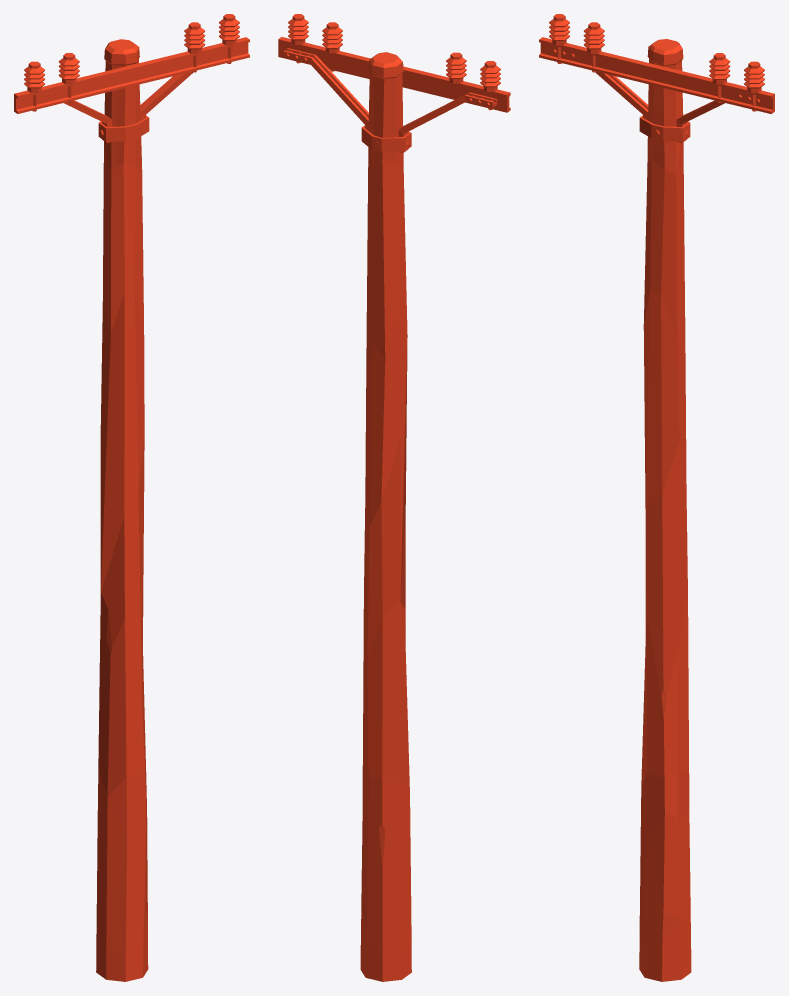
The model's file is SM_Pole_Electric_A_City.fbx.
3 renders of one model, left to right at view 1: azimuth 30°, elevation 25°; view 2: azimuth 150°, elevation 25°; view 3: azimuth 330°, elevation 25°, orthographic.
Visible parts, largest first — view 1: SM_Pole_Electric_A_City; view 2: SM_Pole_Electric_A_City; view 3: SM_Pole_Electric_A_City.
Boxes of the visible parts, x1=… form: SM_Pole_Electric_A_City: x1=14, y1=14, x2=249, y2=981; SM_Pole_Electric_A_City: x1=278, y1=14, x2=510, y2=981; SM_Pole_Electric_A_City: x1=539, y1=14, x2=774, y2=981.
Bounding box in the file's own units: 1.78 × 6.88 × 0.3538.
